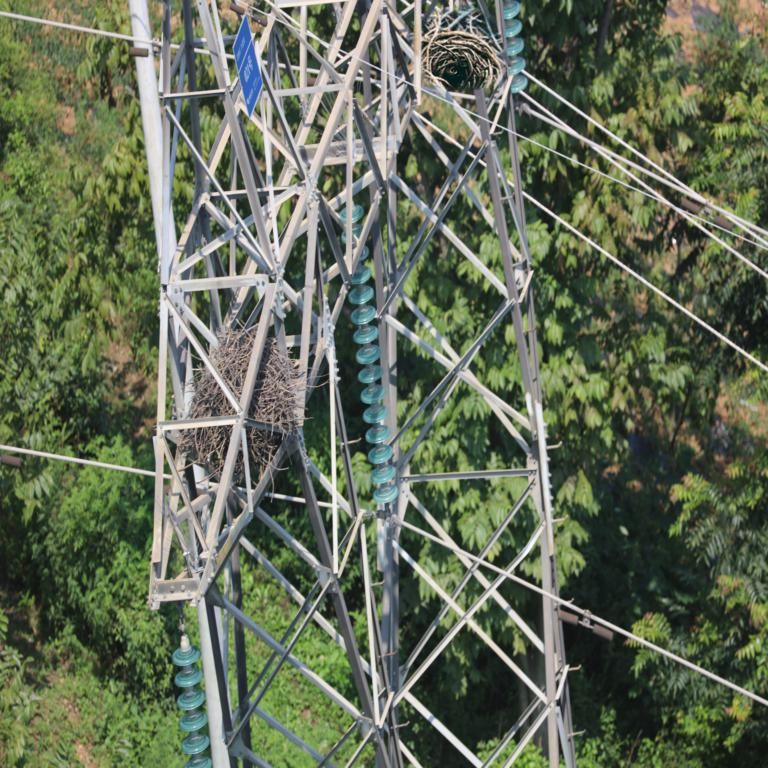nest: (188, 326, 300, 482), (418, 25, 504, 100)
